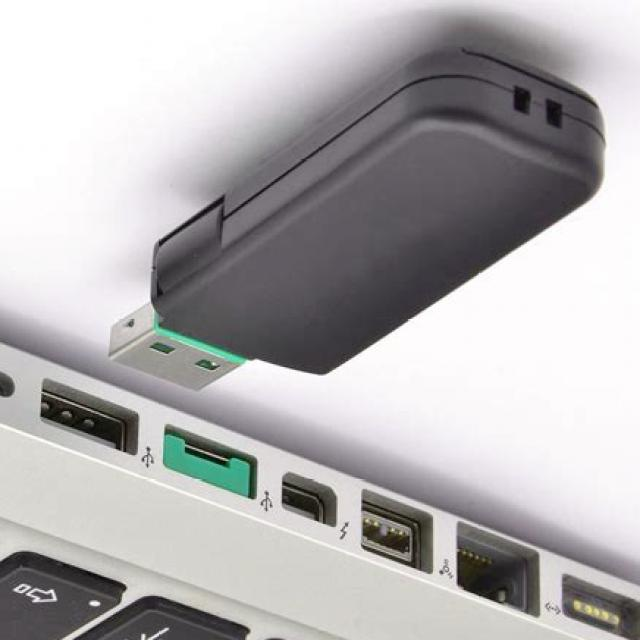usb port: (40, 380, 141, 466), (162, 429, 267, 509)
